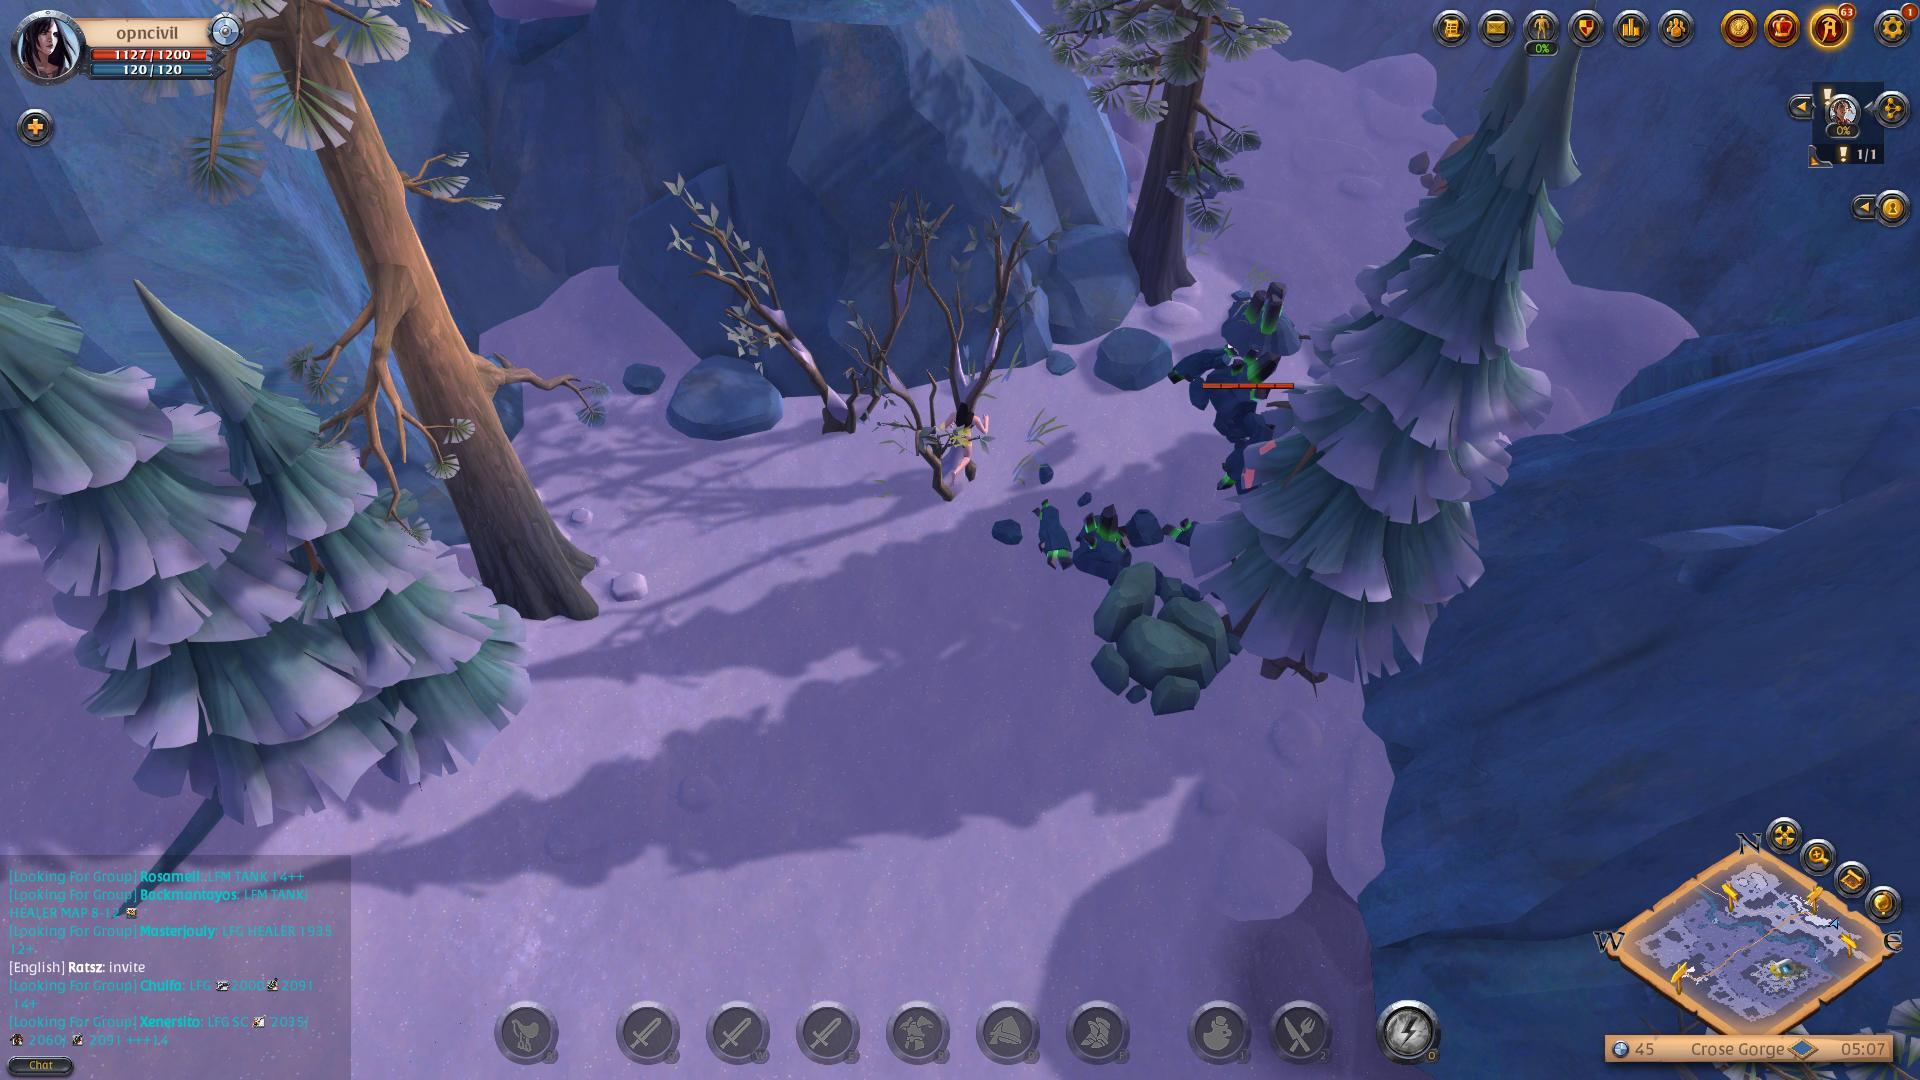sandstone: (1093, 549, 1247, 716)
tin_ore: (1217, 269, 1309, 361)
